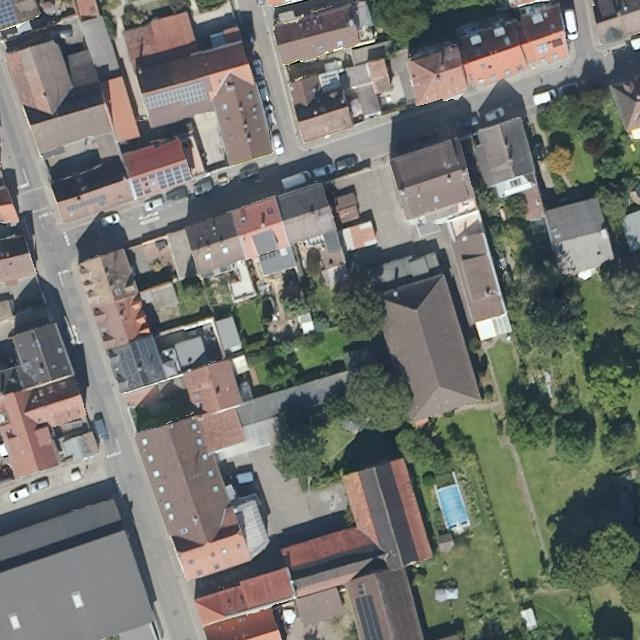PV: (143, 79, 211, 112), (138, 161, 193, 191), (353, 593, 385, 639), (115, 345, 143, 391), (134, 335, 165, 374), (65, 192, 108, 214), (1, 0, 19, 31), (129, 177, 145, 199), (140, 370, 150, 385)
